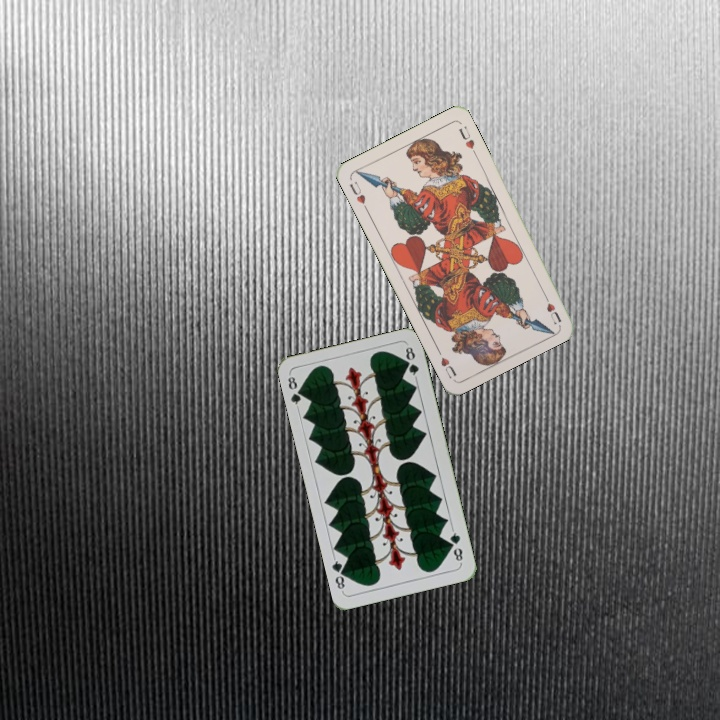G8: (283, 371, 307, 411), (445, 526, 465, 566)
HU: (539, 289, 564, 327), (345, 177, 370, 213)
